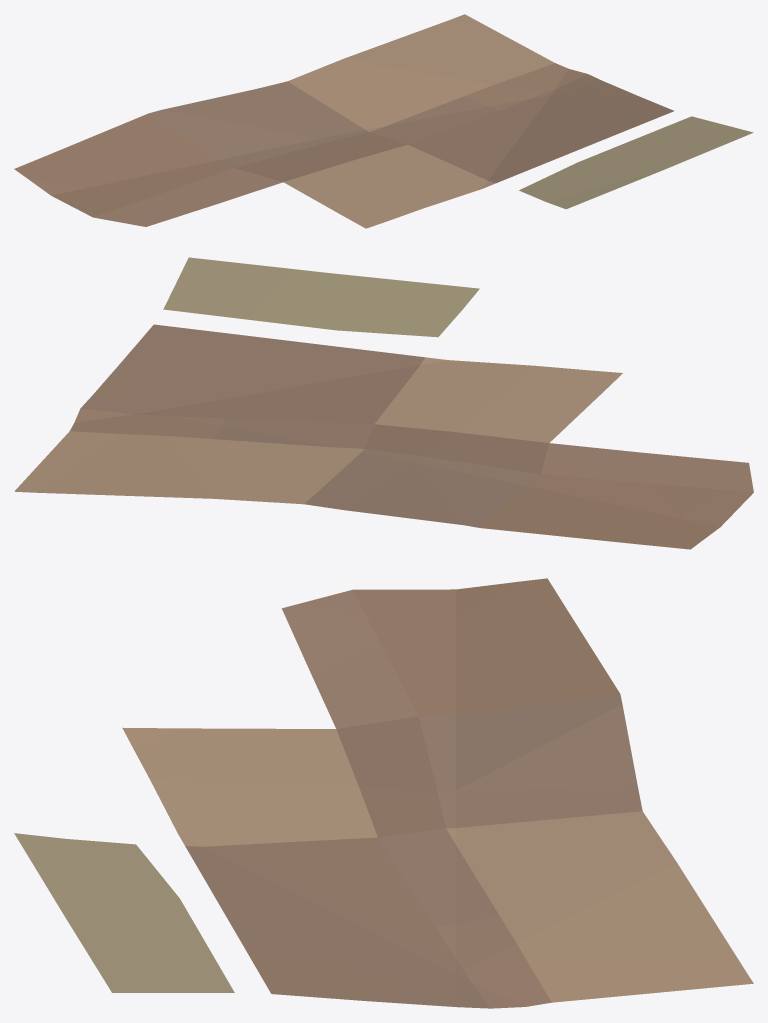
The model's file is farm_47_30_soil.glb.
3 views of the same model, one above another, from view 1: azimuth 30°, elevation 25°; view 2: azimuth 150°, elevation 25°; view 3: azimuth 270°, elevation 25° (orthographic). The views are drawn at different scales.
Visible parts, largest first — view 1: geometry_0; view 2: geometry_0; view 3: geometry_0.
Boxes of the visible parts, x1=… form: geometry_0: x1=14, y1=14, x2=753, y2=228; geometry_0: x1=14, y1=257, x2=753, y2=549; geometry_0: x1=14, y1=578, x2=753, y2=1008.
Bounding box in the file's own units: 203 × 10.62 × 152.
